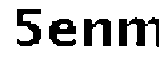5: (10, 5, 45, 51)
e: (48, 16, 78, 50)
m: (116, 14, 160, 51)
n: (81, 16, 113, 51)
